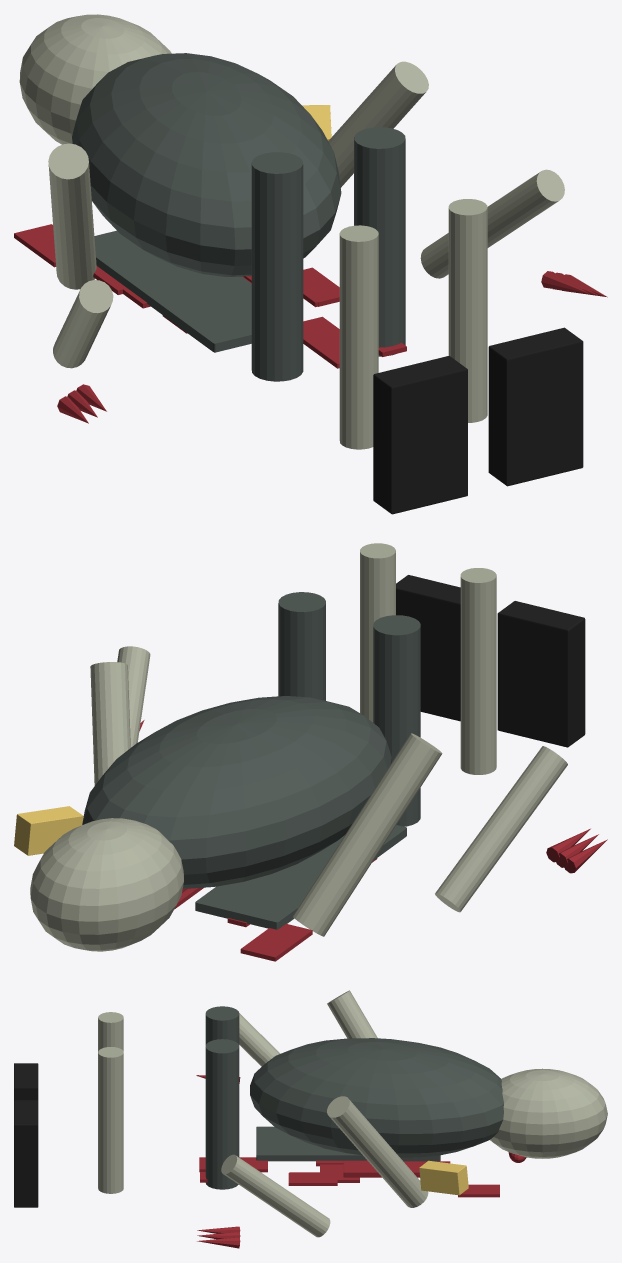
The model's file is dz_blender_runner.glb.
3 views of the same model, one above another, from view 1: azimuth 30°, elevation 25°; view 2: azimuth 150°, elevation 25°; view 3: azimuth 270°, elevation 25° (orthographic). The views are drawn at different scales.
Parts seen in each view (by area): view 1: torso asymetrique, botte humide, botte humide.001, cuisse tissu.001, tete infectee, pan manteau dechire, tibia expose, cuisse tissu, tibia expose.001, bras maigre.001, bras maigre, avant bras griffe (+4 smaller); view 2: torso asymetrique, tete infectee, botte humide.001, bras maigre.001, tibia expose, botte humide, cuisse tissu.001, avant bras griffe.001, pan manteau dechire, cuisse tissu, tibia expose.001, bras maigre (+3 smaller); view 3: torso asymetrique, tete infectee, cuisse tissu, tibia expose.001, bras maigre, avant bras griffe, botte humide, pan manteau dechire, brassard evac dechire, bras maigre.001, cuisse tissu.001, avant bras griffe.001 (+6 smaller).
Boxes of the visible parts, x1,y1,x2,y2 form: torso asymetrique: [72, 53, 341, 276]; botte humide: [488, 327, 583, 486]; botte humide.001: [373, 356, 467, 514]; cuisse tissu.001: [251, 152, 303, 381]; tete infectee: [19, 14, 171, 144]; pan manteau dechire: [94, 230, 251, 352]; tibia expose: [339, 225, 378, 449]; cuisse tissu: [354, 127, 405, 356]; tibia expose.001: [448, 199, 487, 422]; bras maigre.001: [48, 143, 96, 289]; bras maigre: [328, 61, 428, 187]; avant bras griffe: [420, 169, 564, 278]; torso asymetrique: [82, 696, 391, 888]; tete infectee: [30, 818, 183, 951]; botte humide.001: [497, 601, 585, 747]; bras maigre.001: [292, 733, 442, 936]; tibia expose: [460, 568, 496, 774]; botte humide: [396, 575, 460, 721]; cuisse tissu.001: [373, 615, 420, 826]; avant bras griffe.001: [435, 746, 567, 912]; pan manteau dechire: [195, 825, 406, 929]; cuisse tissu: [278, 592, 325, 700]; tibia expose.001: [360, 543, 395, 722]; bras maigre: [90, 662, 130, 785]; torso asymetrique: [250, 1038, 503, 1157]; tete infectee: [490, 1068, 607, 1158]; cuisse tissu: [205, 1039, 239, 1189]; tibia expose.001: [98, 1047, 123, 1193]; bras maigre: [327, 1096, 428, 1207]; avant bras griffe: [221, 1154, 330, 1237]; botte humide: [14, 1100, 38, 1207]; pan manteau dechire: [256, 1126, 440, 1161]; brassard evac dechire: [419, 1160, 468, 1195]; bras maigre.001: [327, 990, 377, 1038]; cuisse tissu.001: [205, 1006, 239, 1044]; avant bras griffe.001: [239, 1013, 280, 1066].
Size of the model in its own units: 1.43 by 0.59 by 2.16.
